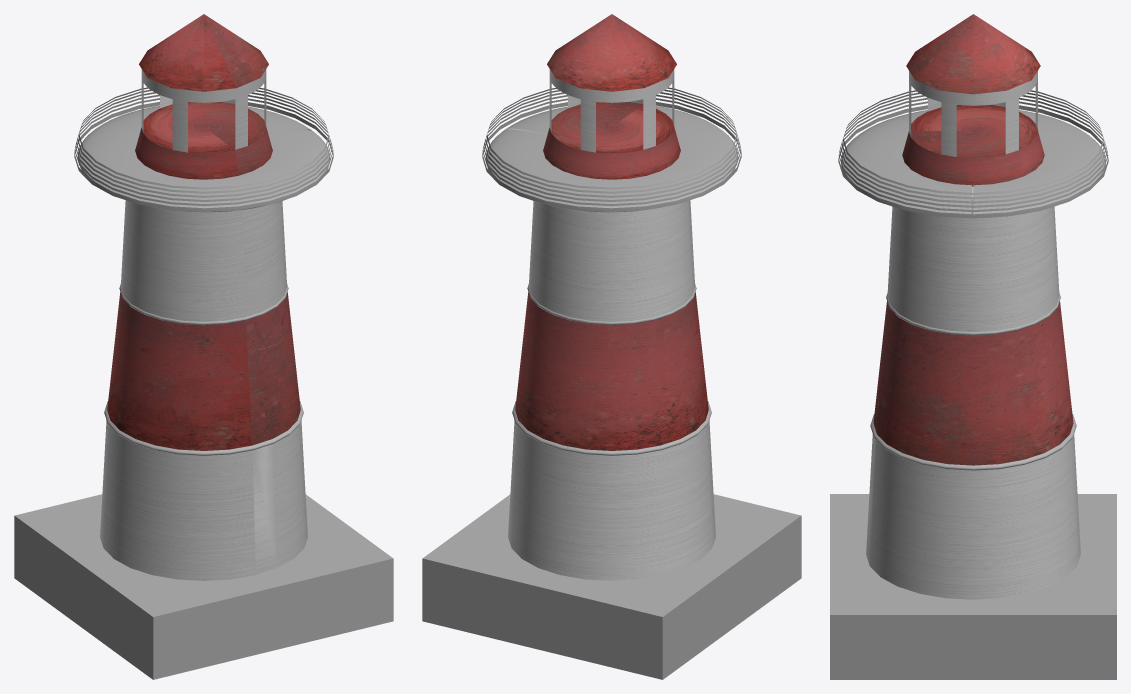
Rendered from lighthouse.fbx.
The picture shows the model from 3 angles, left to right: view 1: azimuth 30°, elevation 25°; view 2: azimuth 150°, elevation 25°; view 3: azimuth 270°, elevation 25°; orthographic projection. The views are drawn at different scales.
Visible parts, largest first — view 1: Box, Cylinder, Cylinder1, Cylinder2, Torus, Cylinder3, Torus1, Cone, Cylinder4, Cylinder5, Torus2, Torus3; view 2: Box, Cylinder, Cylinder1, Cylinder2, Torus, Cylinder3, Torus1, Cone, Cylinder4, Cylinder5, Torus2, Torus3; view 3: Box, Cylinder, Cylinder1, Cylinder2, Torus, Cylinder3, Torus1, Cone, Cylinder4, Cylinder5, Torus2, Torus3.
Part boxes in pixels (box(x1,y1,x2,y2)): Box: box(14, 494, 393, 679); Cylinder: box(100, 420, 307, 580); Cylinder1: box(107, 292, 300, 450); Cylinder2: box(120, 200, 287, 321); Torus: box(77, 106, 330, 212); Cylinder3: box(135, 102, 272, 179); Torus1: box(74, 87, 333, 212); Cone: box(139, 14, 268, 91); Cylinder4: box(141, 77, 266, 152); Cylinder5: box(141, 69, 266, 102); Torus2: box(104, 401, 303, 455); Torus3: box(119, 284, 288, 325); Box: box(422, 494, 801, 679); Cylinder: box(508, 420, 715, 580); Cylinder1: box(515, 292, 708, 450); Cylinder2: box(528, 200, 695, 321); Torus: box(485, 106, 738, 212); Cylinder3: box(543, 102, 680, 179); Torus1: box(482, 87, 741, 212); Cone: box(547, 14, 676, 91); Cylinder4: box(549, 77, 674, 152); Cylinder5: box(549, 69, 674, 102); Torus2: box(512, 401, 711, 455); Torus3: box(527, 284, 696, 325); Box: box(830, 494, 1116, 679); Cylinder: box(866, 434, 1080, 599); Cylinder1: box(873, 301, 1073, 465); Cylinder2: box(887, 187, 1059, 332); Torus: box(841, 110, 1105, 217); Cylinder3: box(902, 104, 1044, 186); Torus1: box(838, 90, 1108, 218); Cone: box(906, 14, 1040, 94); Cylinder4: box(909, 79, 1037, 156); Cylinder5: box(909, 71, 1037, 105); Torus2: box(870, 414, 1076, 470); Torus3: box(886, 293, 1060, 335).
Bounding box in the file's own units: 2 × 4.66 × 2.
4 materials, 2 textured.
